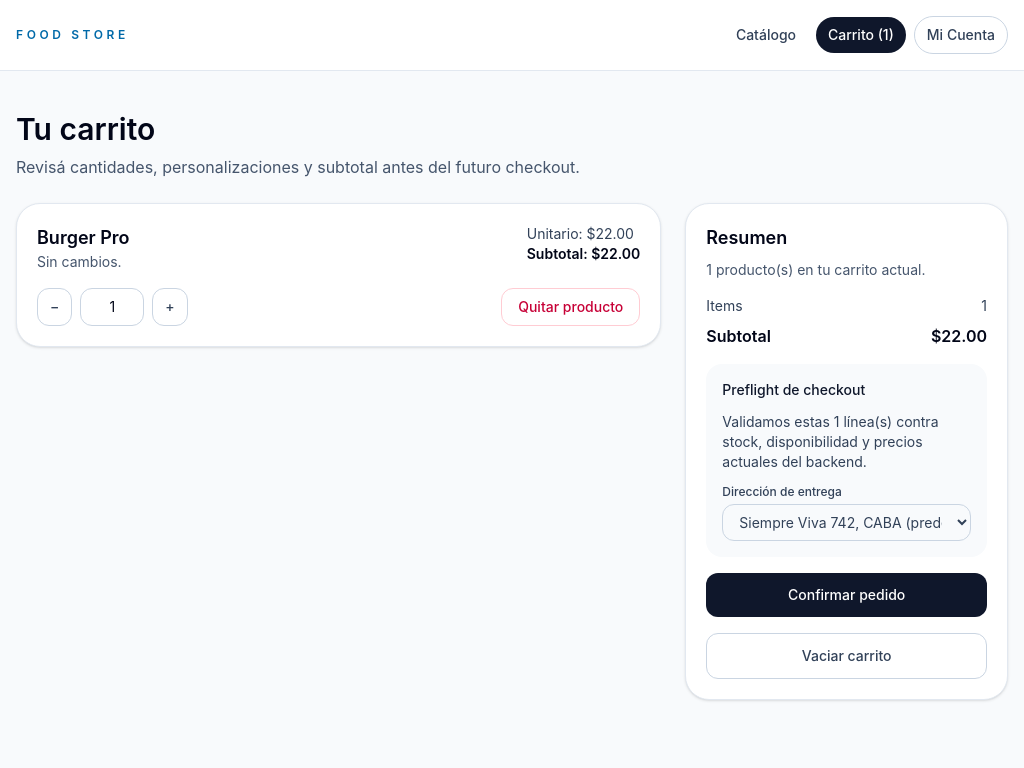
it: CartPage › shows clear ordering-disabled message when backend pauses ordering
Click the button "Confirmar pedido". click: [847, 595]
box: x1=706 y1=573 x2=987 y2=617
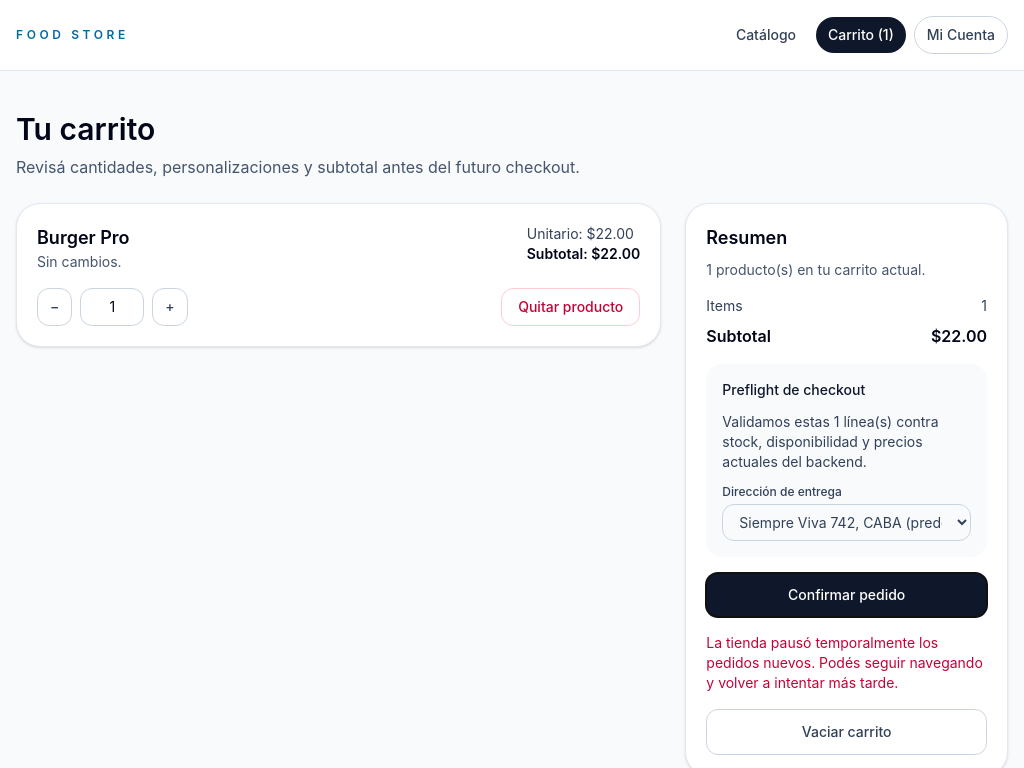
expect the text "pausó temporalmente los pedidos nuevos" is shown: met, box x1=706 y1=634 x2=983 y2=691
